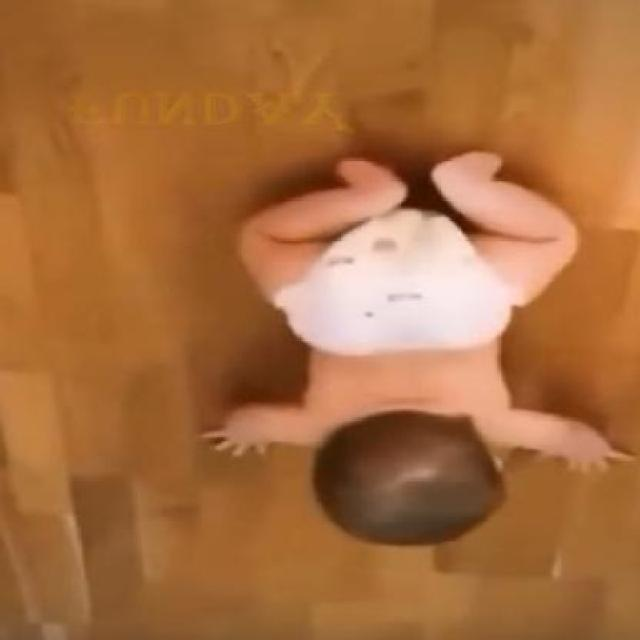baby: (194, 152, 634, 552)
